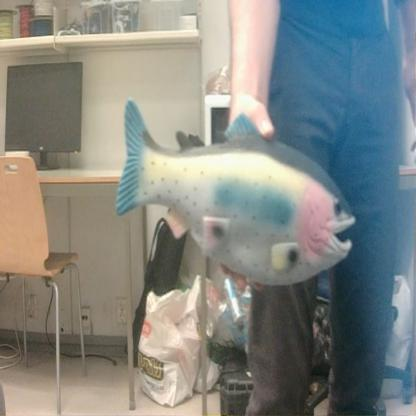rubberfish: (114, 89, 359, 290)
